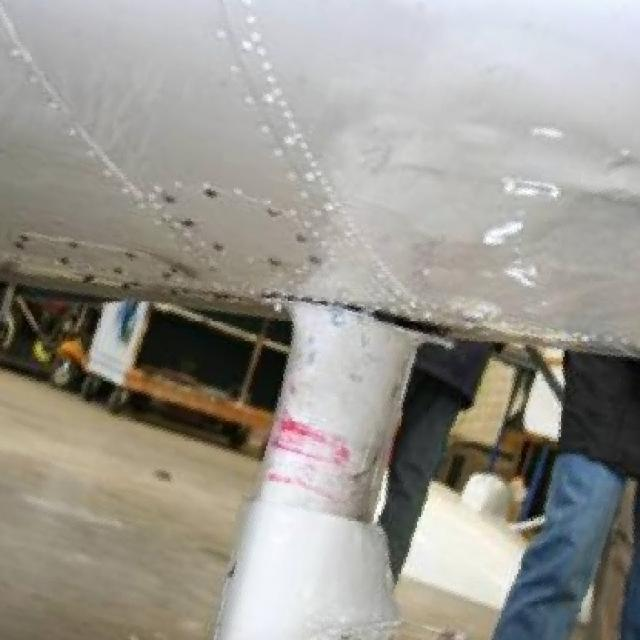dent: (494, 174, 566, 206)
